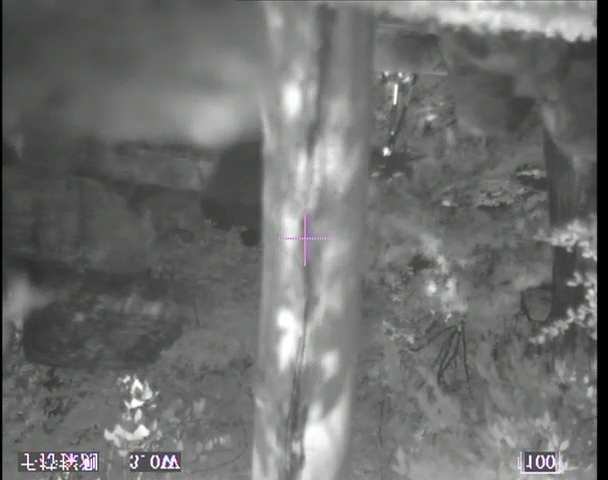my: (380, 145, 391, 157)
